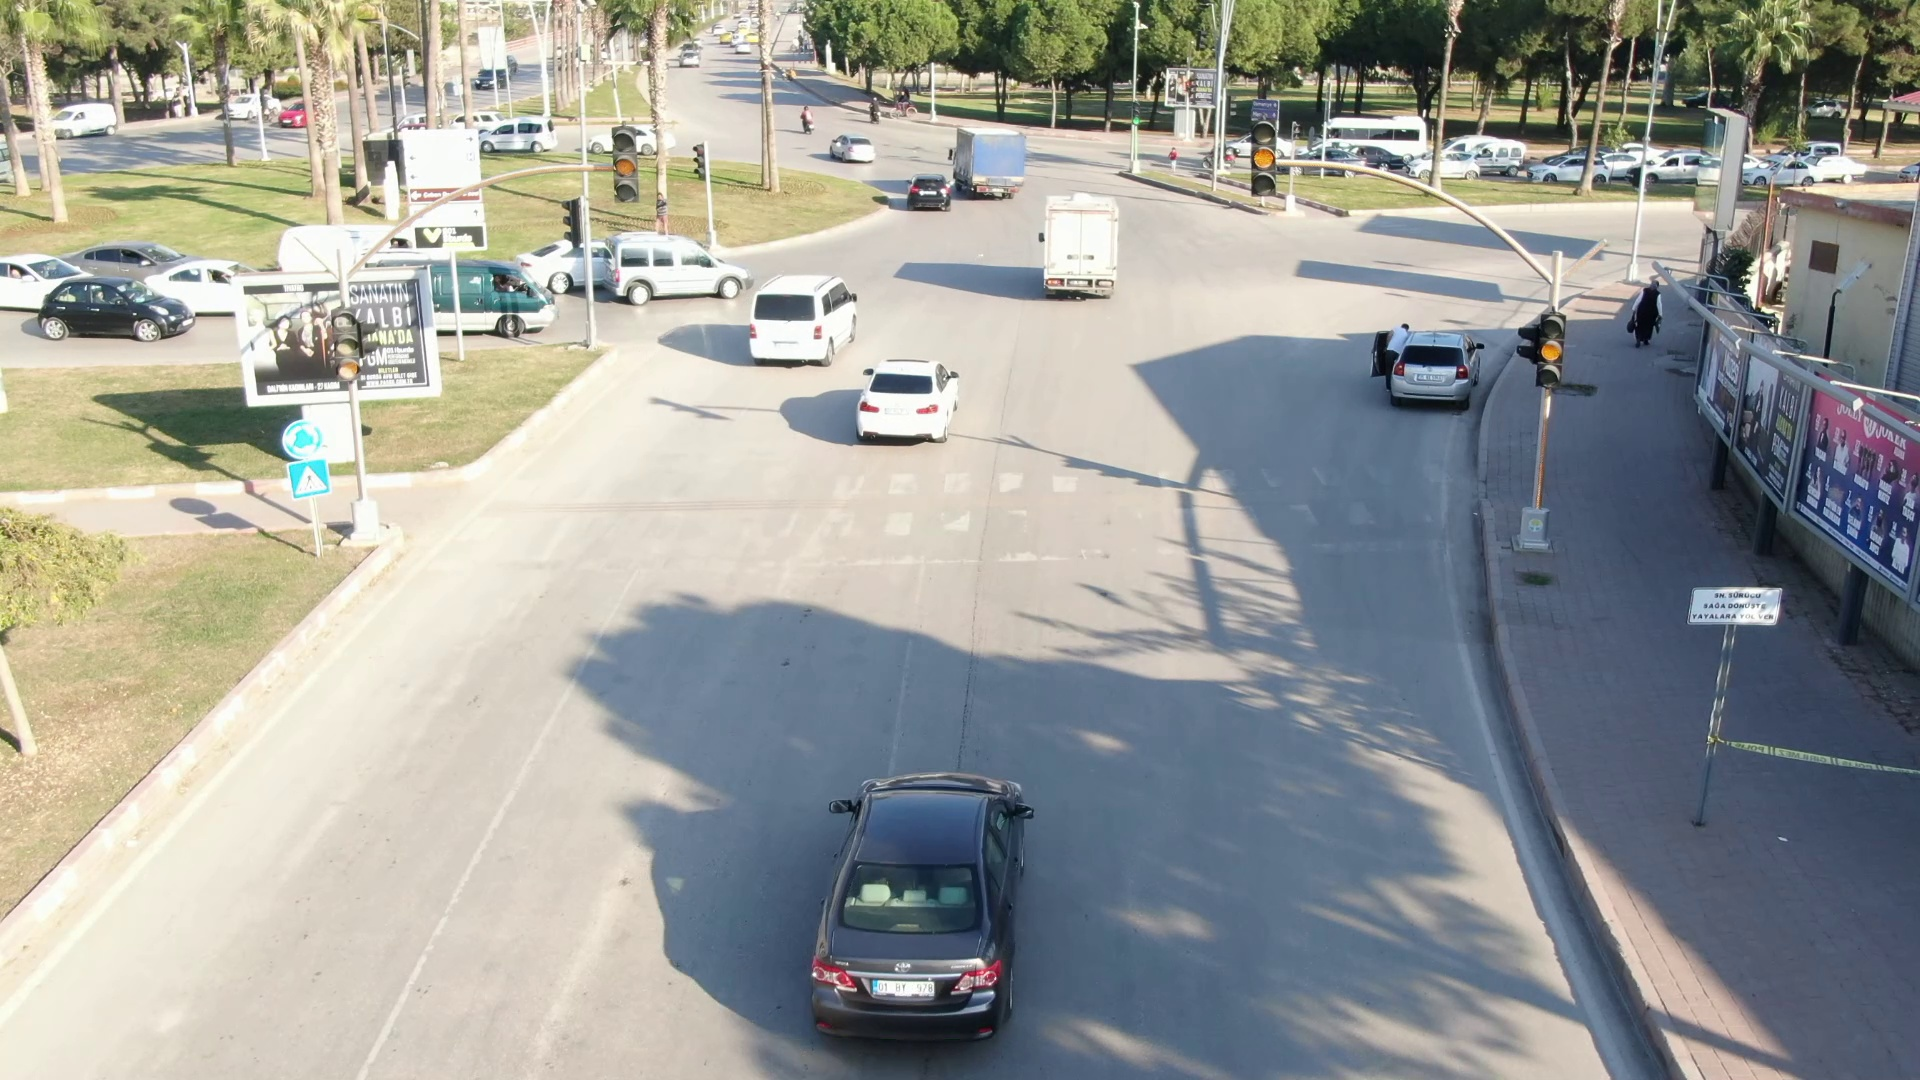car: (777, 737, 1073, 1054), (1024, 188, 1152, 314), (27, 274, 199, 356), (600, 227, 754, 318), (743, 269, 868, 371), (852, 345, 959, 450), (939, 117, 1037, 208), (1396, 335, 1492, 412), (894, 168, 955, 218), (822, 134, 892, 166)
person: (1623, 275, 1680, 349)
